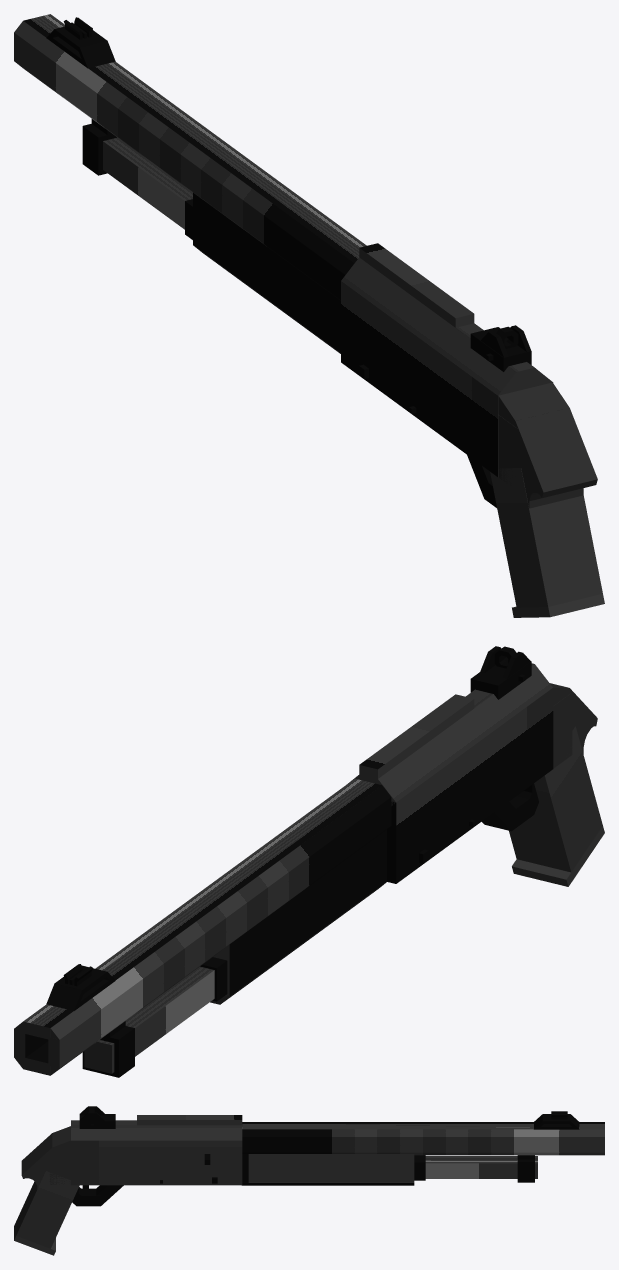
Rendered from mteg_benelli_m4.glb.
3 views of the same model, one above another, from view 1: azimuth 30°, elevation 25°; view 2: azimuth 150°, elevation 25°; view 3: azimuth 270°, elevation 25° (orthographic). The views are drawn at different scales.
Parts seen in each view (by area): view 1: Gun; view 2: Gun; view 3: Gun.
Part boxes in pixels (x1,y1,x2,y2): Gun: [14, 14, 604, 617]; Gun: [14, 646, 604, 1077]; Gun: [14, 1106, 604, 1255].
Size of the model in its own units: 0.1125 by 0.3356 by 1.28.
Materials: 1 (1 with a texture image).
